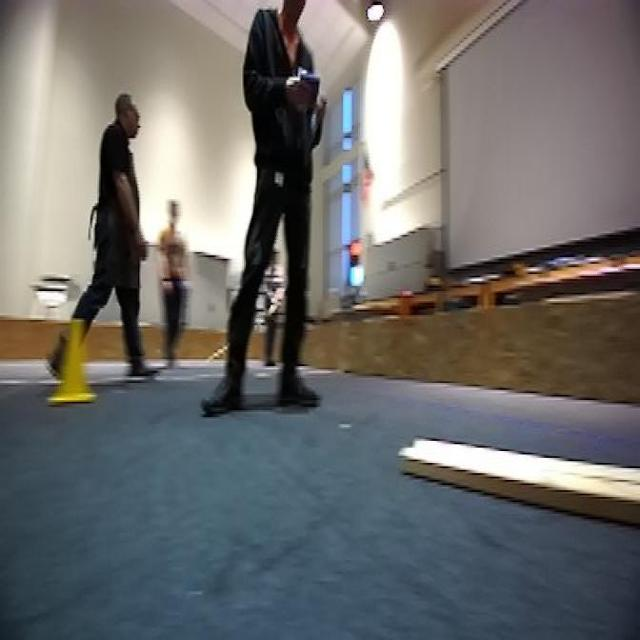frc_cone: (50, 318, 99, 402)
